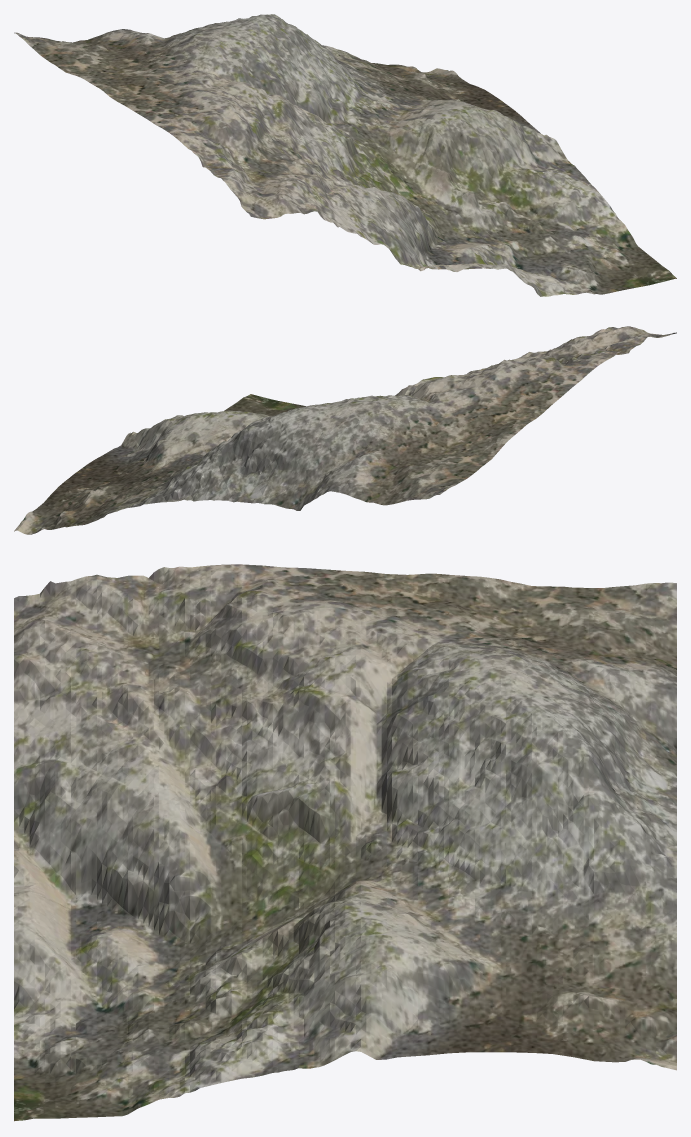
The picture shows the model from 3 angles, top to bottom: view 1: azimuth 30°, elevation 25°; view 2: azimuth 150°, elevation 25°; view 3: azimuth 270°, elevation 25°; orthographic projection. The views are drawn at different scales.
Size of the model in its own units: 500 by 216 by 481.
1 material, 1 textured.
